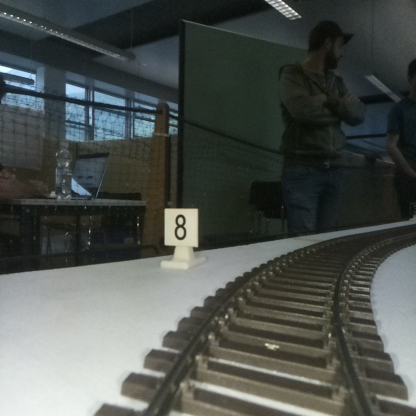white-stop-8: (164, 209, 197, 266)
